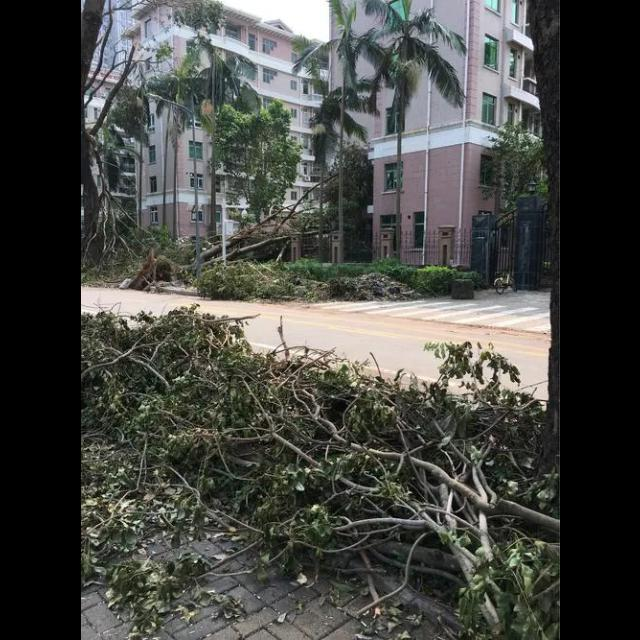fallen_tree: (89, 302, 533, 632), (136, 158, 362, 286), (86, 135, 156, 287)
